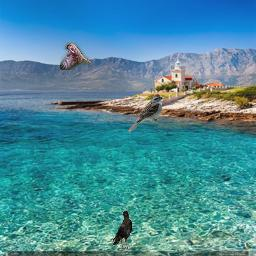Crow: (112, 210, 132, 250)
Sparrow: (128, 93, 164, 133), (60, 42, 91, 70)
